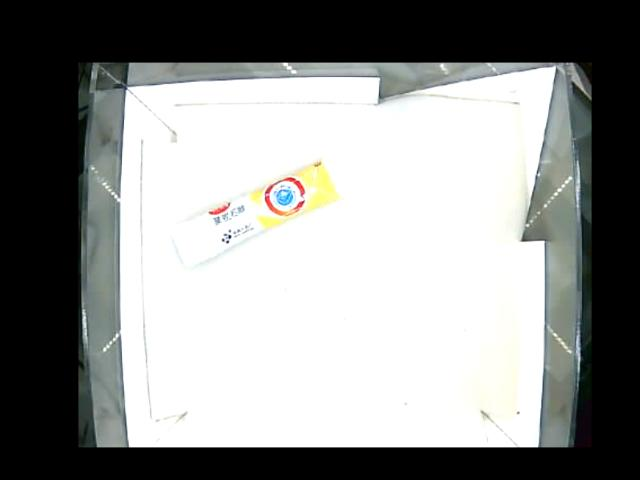Medicine: (171, 156, 352, 267)
